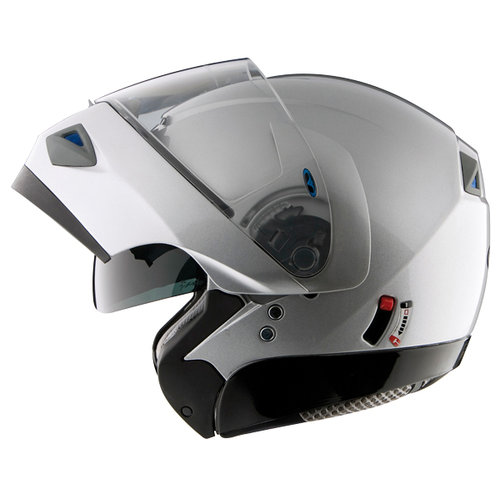helmet: (64, 70, 495, 436)
